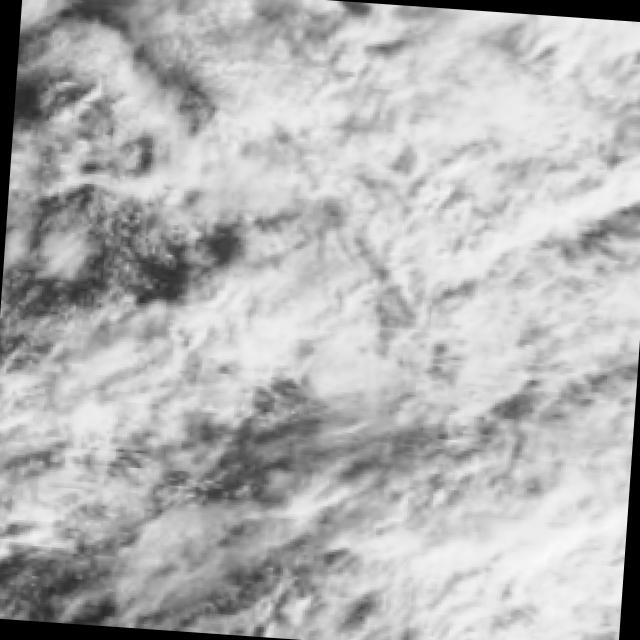CB: (166, 56, 407, 214), (258, 240, 536, 364), (380, 72, 555, 262), (456, 497, 627, 640)
